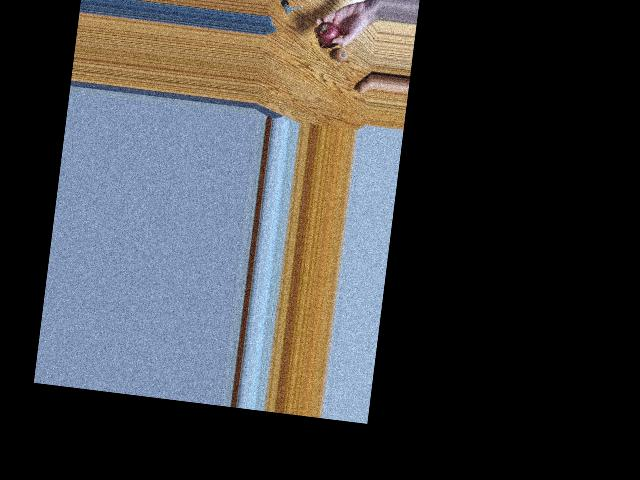onion: (333, 46, 350, 65)
